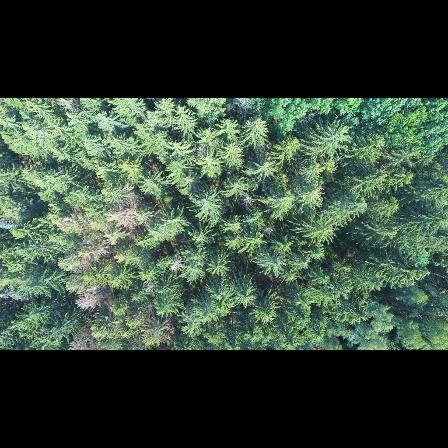Dead: (108, 194, 143, 233), (77, 286, 112, 312), (66, 242, 109, 263), (168, 254, 185, 276), (242, 193, 257, 211)
